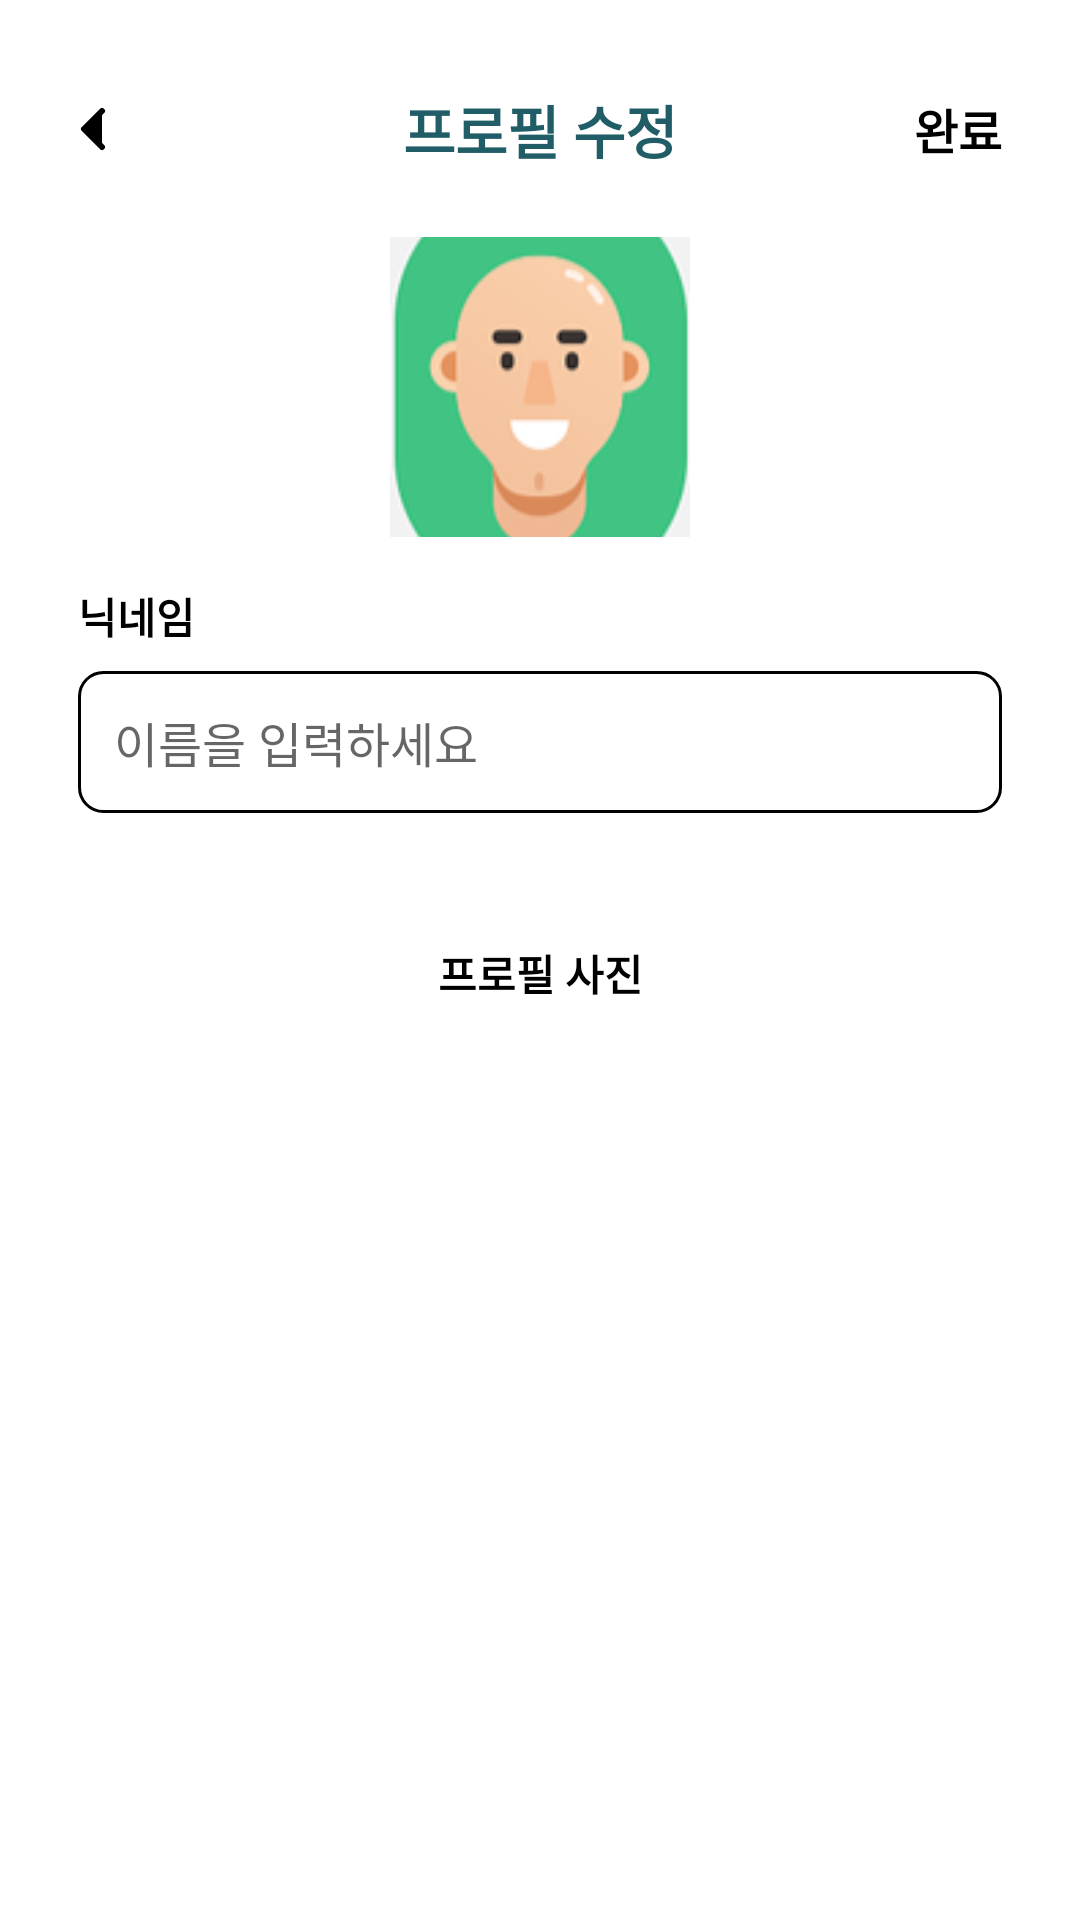

Screen size 1080w x 1920h. Icon name, then its box in pixels as (x1, y1, x2, y2):
뒤로가기: (81, 108, 105, 150)
현재 프로필 사진: (392, 237, 688, 537)
